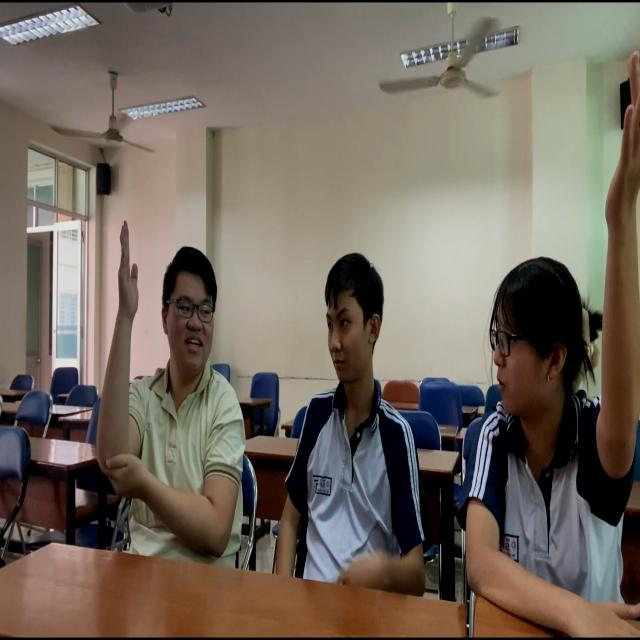raise_hand: (461, 1, 640, 640), (86, 219, 250, 590)
